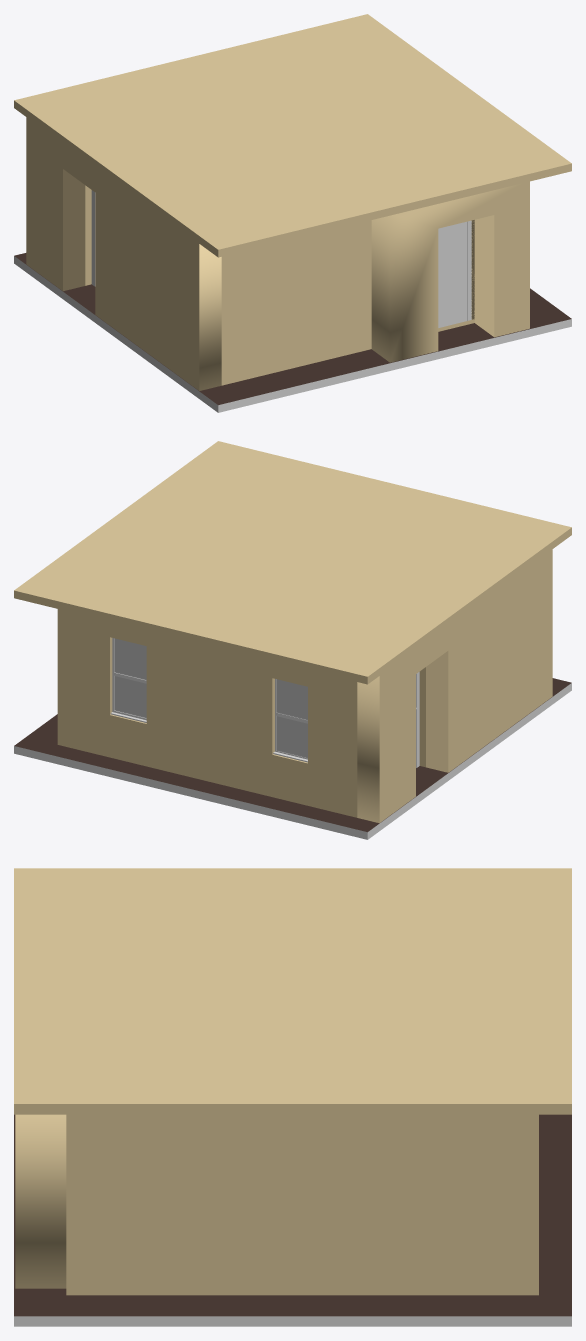
File: floorplan225(1).fbx
3 views of the same model, one above another, from view 1: azimuth 30°, elevation 25°; view 2: azimuth 150°, elevation 25°; view 3: azimuth 270°, elevation 25° (orthographic). The views are drawn at different scales.
Visible parts, largest first — view 1: Cube.1162, Door.014, DoorFrame.011; view 2: Cube.1162, Window.010, Window.011; view 3: Cube.1162.
Boxes of the visible parts, bbox=[...] form: Cube.1162: bbox=[14, 14, 571, 412]; Door.014: bbox=[438, 221, 466, 327]; DoorFrame.011: bbox=[467, 220, 471, 320]; Cube.1162: bbox=[14, 441, 571, 839]; Window.010: bbox=[110, 638, 146, 722]; Window.011: bbox=[273, 679, 307, 762]; Cube.1162: bbox=[14, 868, 571, 1326].
Bounding box in the file's own units: 633 × 279 × 633.
